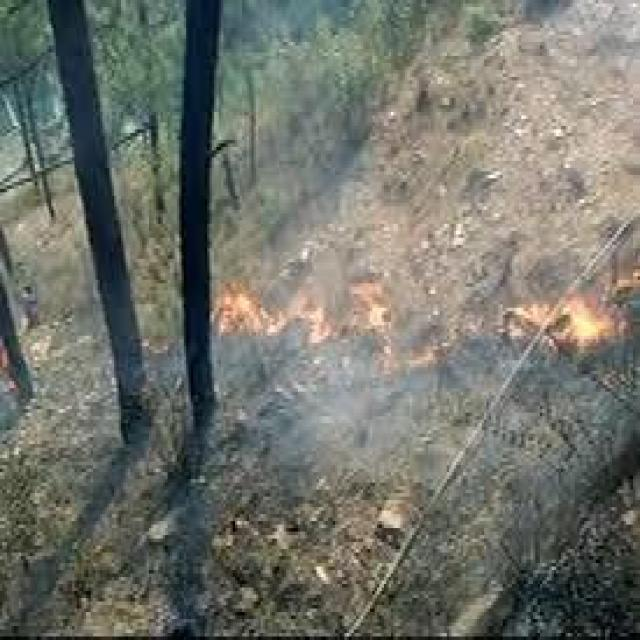Fire: (208, 272, 394, 372), (505, 298, 625, 349)
Smoke: (128, 348, 556, 506)
